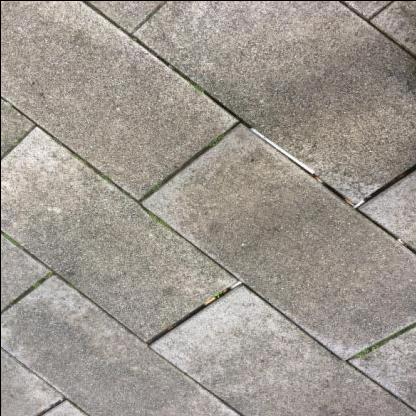Cigarette: (352, 198, 365, 208), (203, 295, 215, 304), (230, 279, 242, 288), (396, 237, 406, 245), (344, 198, 352, 206), (314, 176, 323, 181)
Straw: (250, 127, 314, 173)
